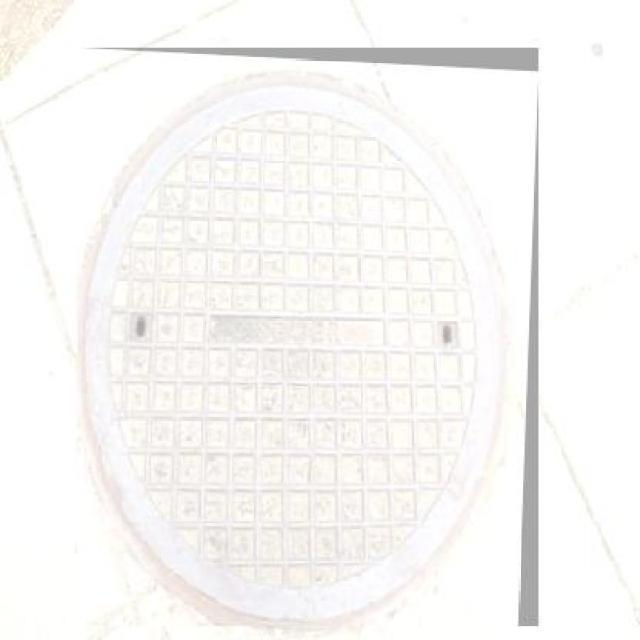Manhole: (78, 45, 540, 624)
